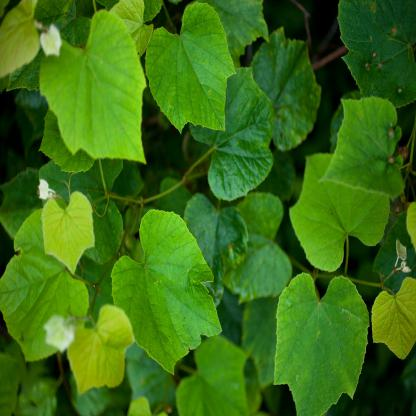grape leaf: (107, 207, 231, 380), (40, 7, 151, 168), (260, 270, 371, 416), (146, 2, 236, 137), (36, 187, 99, 277), (369, 278, 416, 361)
